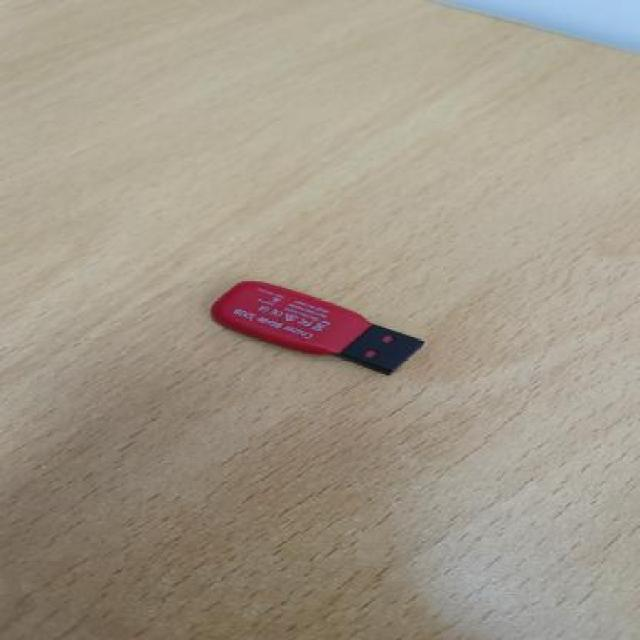Flashdisk: (208, 278, 429, 378)
